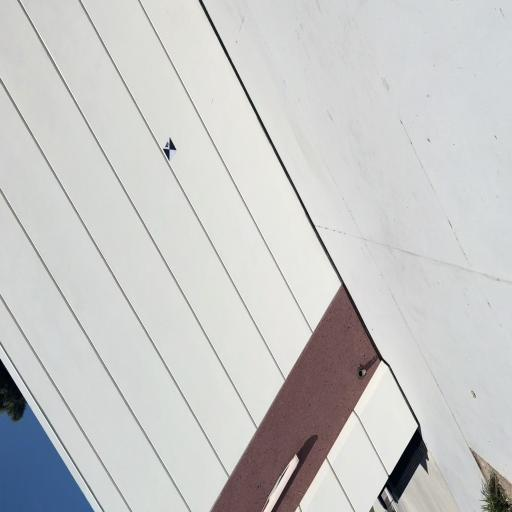target4: (163, 137, 177, 161)
